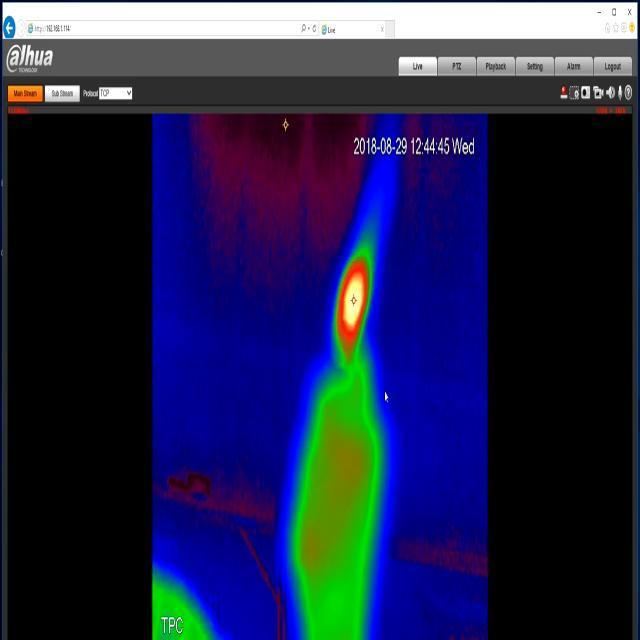fire: (334, 238, 374, 369)
